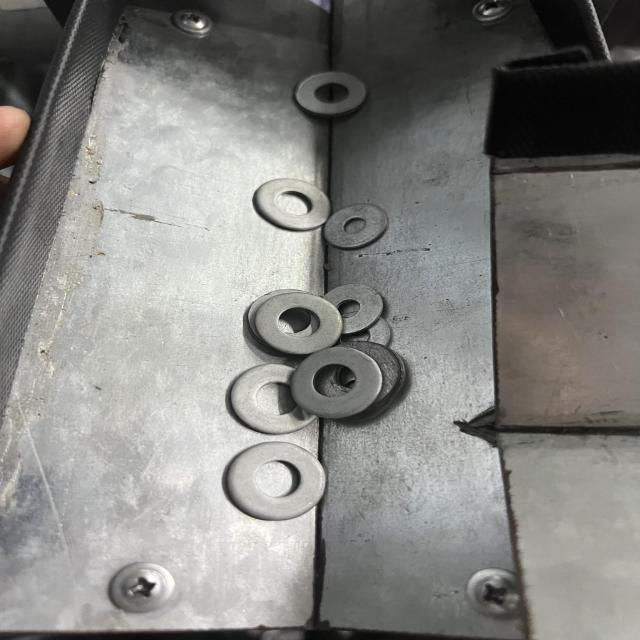washer: (226, 439, 328, 524), (254, 177, 330, 232)
